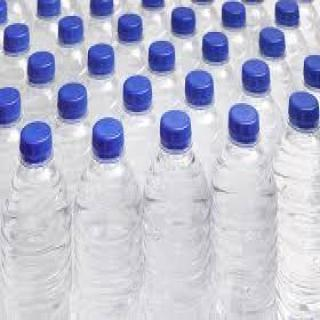Plastic-bottle: (73, 118, 146, 320), (210, 104, 278, 320), (145, 109, 214, 320), (3, 120, 73, 320), (276, 88, 320, 320), (182, 67, 229, 181), (118, 76, 162, 188), (236, 55, 285, 151), (54, 77, 98, 179), (22, 55, 61, 128)
